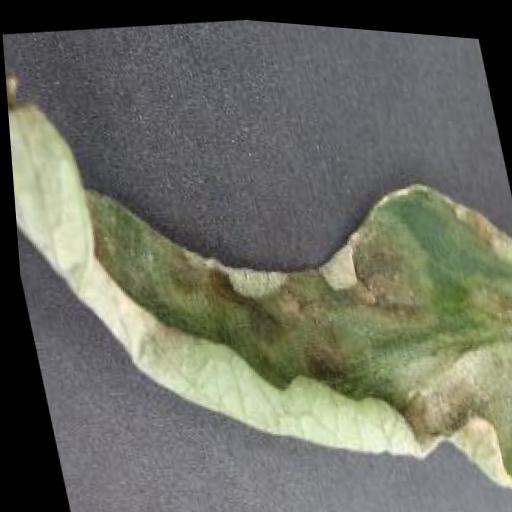Late Blight: (0, 6, 512, 512)
